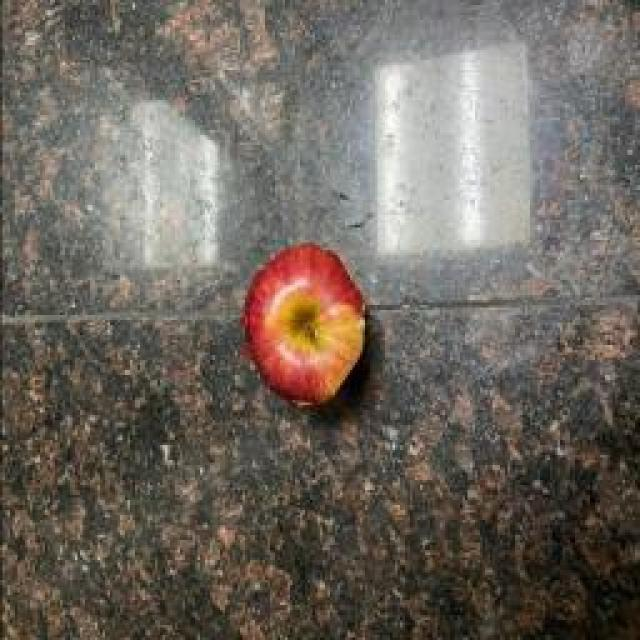Apple: (244, 244, 364, 404)
